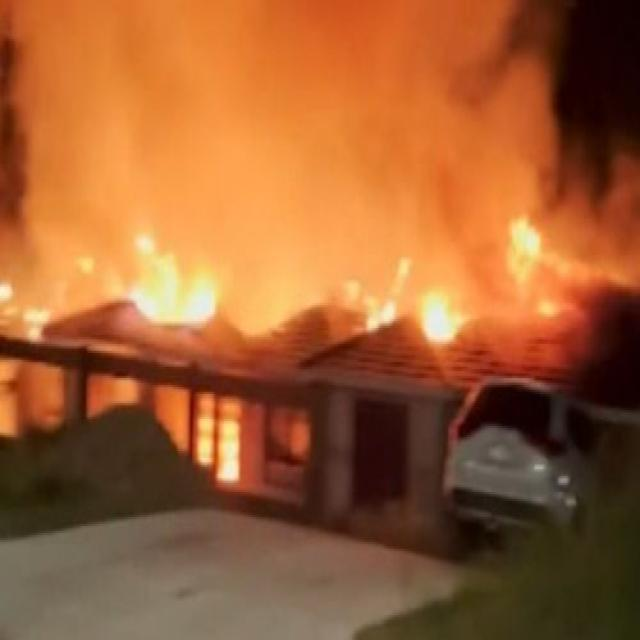Fire: (135, 218, 226, 347), (410, 272, 480, 372), (497, 214, 568, 310)
Smoke: (0, 0, 631, 335)
